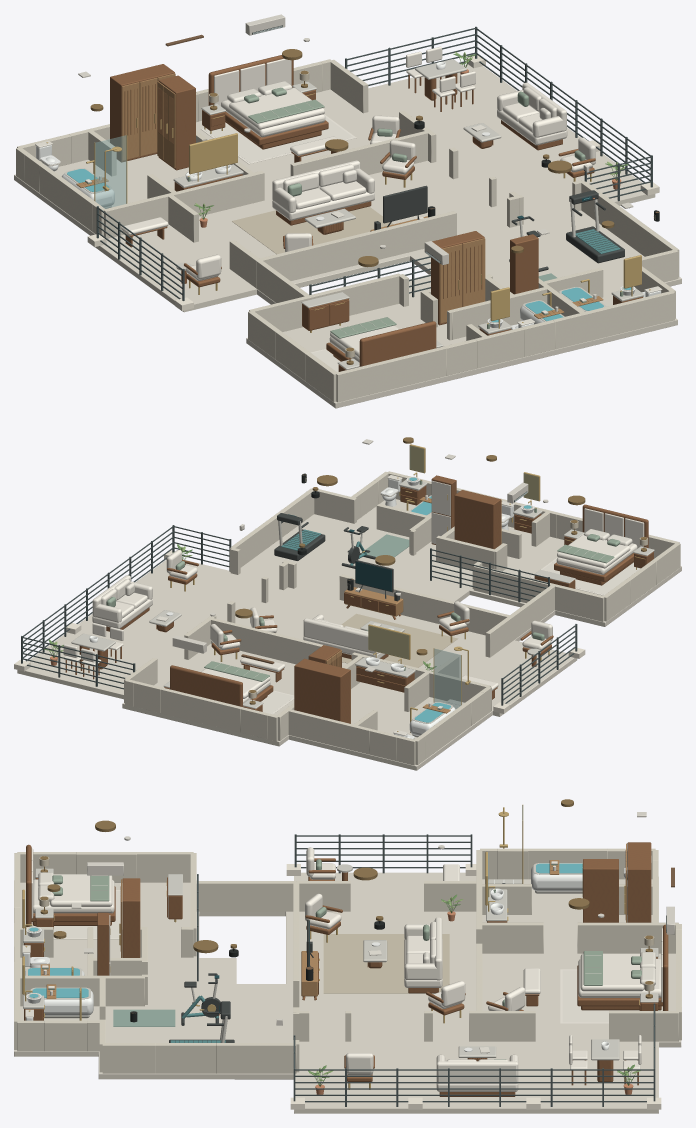
File: upper.glb
The picture shows the model from 3 angles, top to bottom: view 1: azimuth 30°, elevation 25°; view 2: azimuth 150°, elevation 25°; view 3: azimuth 270°, elevation 25°; orthographic projection. The views are drawn at different scales.
Parts seen in each view (by area): view 1: upper--ivory, upper--tile, upper--furniture-teak, upper--furniture-linen, upper--furniture-oak, upper--bronze, upper--furniture-stone, upper--furniture-brass, upper--furniture-ivory, upper--furniture-charcoal, upper--sand, upper--furniture-sage (+6 smaller); view 2: upper--ivory, upper--tile, upper--furniture-teak, upper--furniture-linen, upper--bronze, upper--furniture-ivory, upper--furniture-glass, upper--furniture-stone, upper--furniture-brass, upper--sand, upper--furniture-sage, upper--furniture-charcoal (+8 smaller); view 3: upper--tile, upper--ivory, upper--furniture-linen, upper--furniture-teak, upper--bronze, upper--sand, upper--furniture-stone, upper--furniture-ivory, upper--furniture-ceramic, upper--furniture-sage, upper--luxury-device-bronze, upper--furniture-brass (+6 smaller).
Boxes of the visible parts, x1,y1,x2,y2 form: upper--ivory: (16,59,679,402); upper--tile: (14,64,681,408); upper--furniture-teak: (82,55,643,371); upper--furniture-linen: (85,46,596,362); upper--furniture-oak: (76,73,603,323); upper--bronze: (96,26,652,300); upper--furniture-stone: (64,59,644,369); upper--furniture-brass: (46,93,650,332); upper--furniture-ivory: (35,81,662,372); upper--furniture-charcoal: (374,185,624,271); upper--sand: (232,206,393,254); upper--furniture-sage: (85,87,623,338); upper--ivory: (124,471,680,765); upper--tile: (17,499,681,770); upper--furniture-teak: (65,475,653,723); upper--furniture-linen: (63,495,644,714); upper--bronze: (21,525,577,705); upper--furniture-ivory: (125,475,640,739); upper--furniture-glass: (368,446,538,708); upper--furniture-stone: (71,477,654,737); upper--furniture-brass: (170,444,644,732); upper--sand: (341,613,457,667); upper--furniture-sage: (106,480,620,709); upper--furniture-charcoal: (274,513,399,601); upper--tile: (14,872,681,1113); upper--ivory: (14,848,681,1073); upper--furniture-linen: (31,847,662,1091); upper--furniture-teak: (24,842,668,1096); upper--bronze: (197,834,655,1106); upper--sand: (323,934,449,993); upper--furniture-stone: (23,863,658,1060); upper--furniture-ivory: (22,856,655,1059); upper--furniture-ceramic: (22,866,627,1051); upper--furniture-sage: (29,859,641,1059); upper--luxury-device-bronze: (40,799,653,998); upper--furniture-brass: (22,804,639,1089).
Bounding box in the file's own units: 14.21 × 2.74 × 16.72.
Materials: 30 (7 with a texture image).
